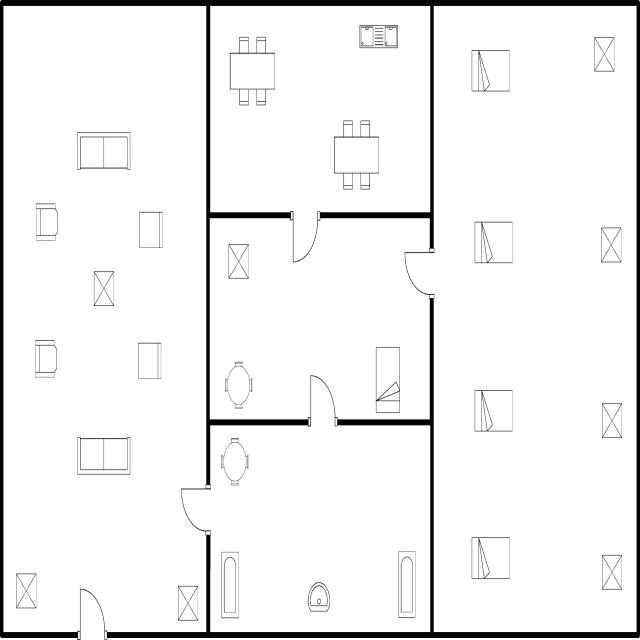armchair: (31, 196, 60, 244), (32, 334, 60, 383)
bed: (468, 531, 513, 586), (471, 215, 517, 268), (372, 340, 402, 418), (471, 386, 515, 438), (470, 43, 512, 97)
coffee_table: (90, 264, 118, 313), (598, 548, 626, 596), (597, 221, 624, 269), (225, 238, 253, 284), (591, 30, 618, 77), (599, 397, 624, 446), (13, 567, 39, 614), (175, 579, 200, 626)
dining_table: (225, 30, 281, 110), (331, 114, 381, 194)
large_sofa: (74, 126, 134, 176), (74, 430, 132, 480)
round_table: (216, 432, 254, 493), (220, 358, 256, 413)
small_sink: (305, 575, 332, 616)
small_sofa: (134, 339, 165, 388), (136, 207, 164, 254)
tub: (394, 544, 419, 626), (218, 546, 242, 625)
twin_sink: (357, 19, 403, 54)
